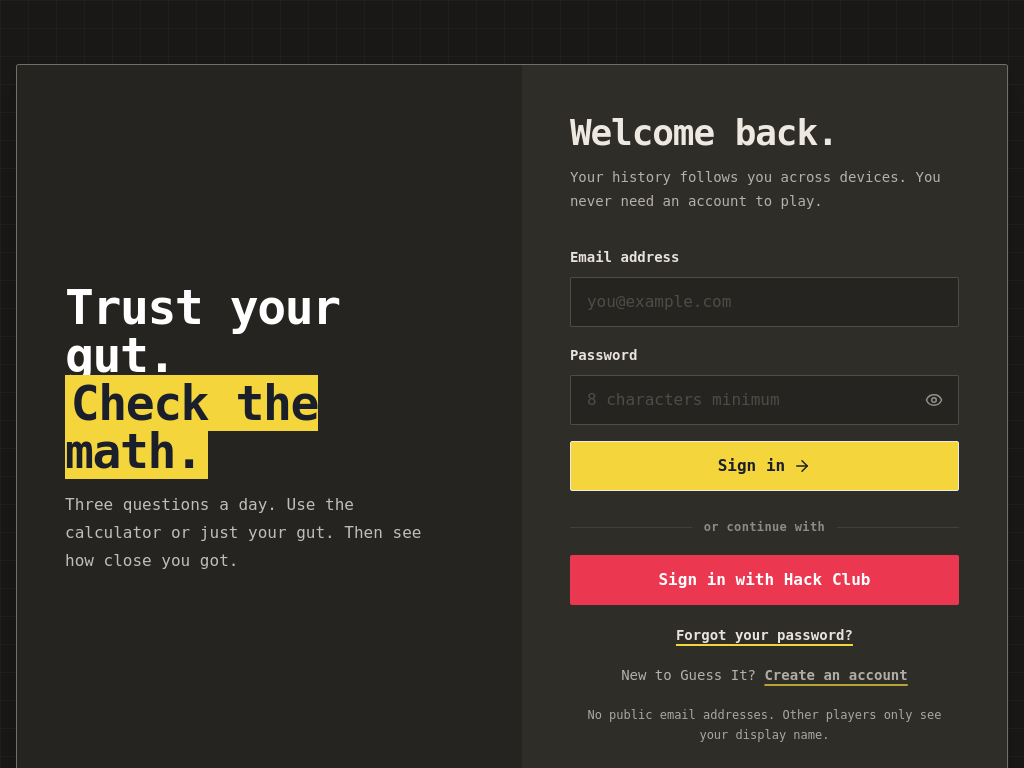
Scenario: Auth pending verification › replaces the login form with pending verification
Type "player@example.com" into the field labelled "Email address" at [764, 302], box x1=570 y1=277 x2=959 y2=327
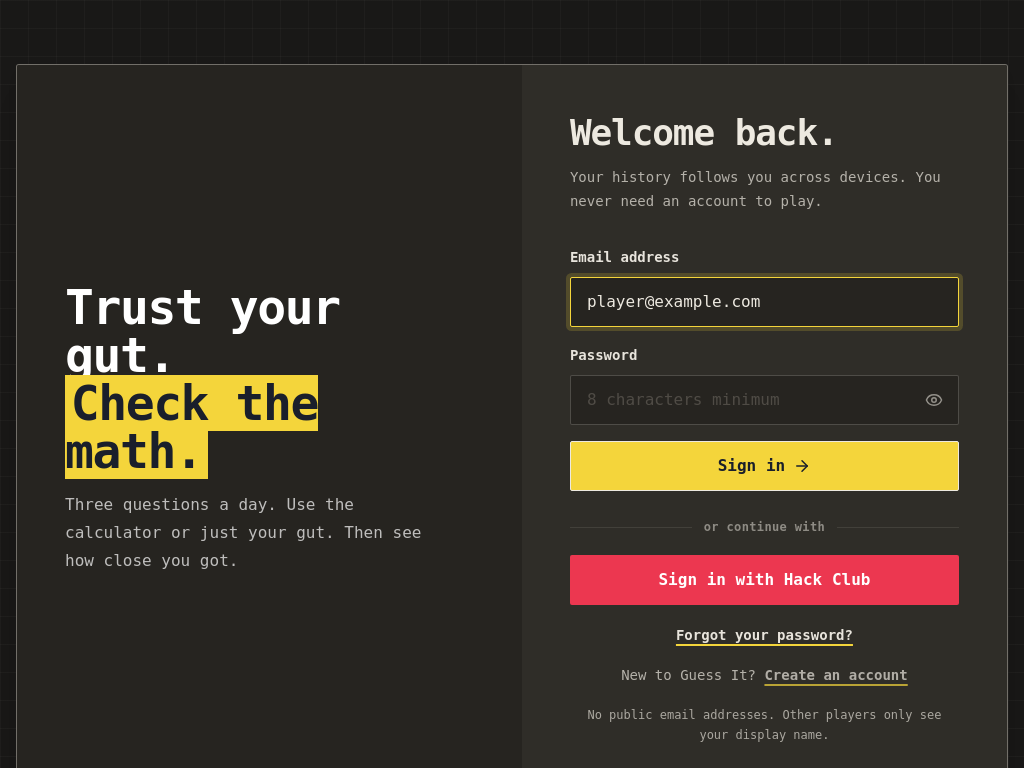
Type "password123" into the password field labelled "Password" at [764, 400], box x1=570 y1=375 x2=959 y2=425
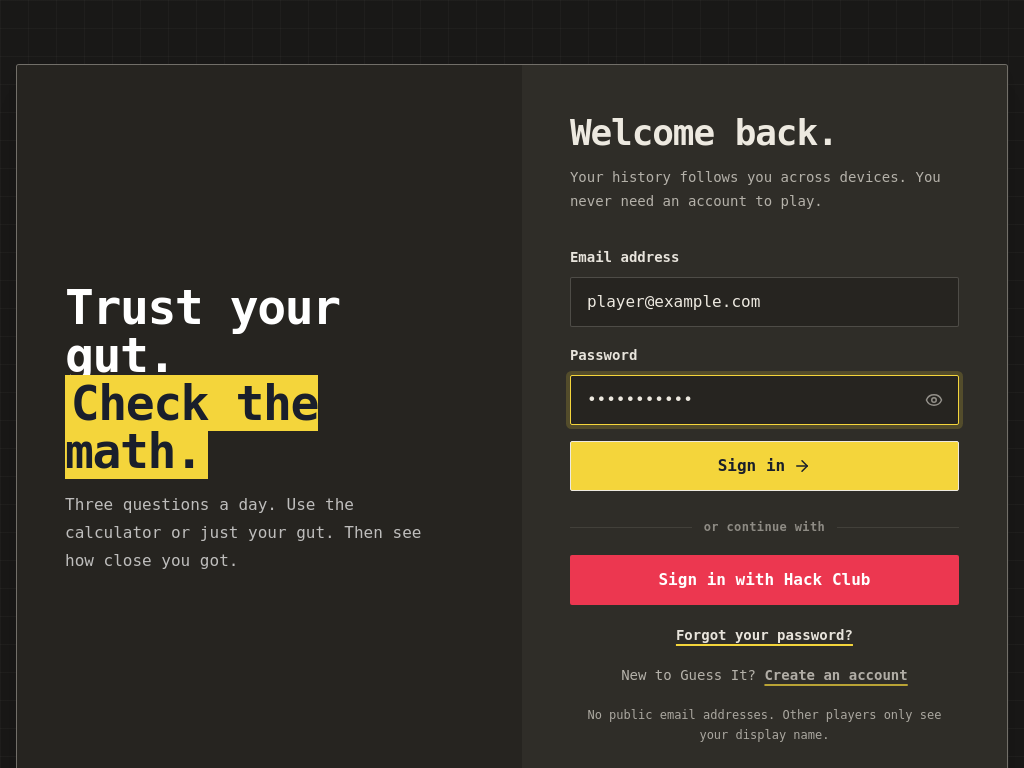
Click the button "Sign in" at [764, 466], box x1=570 y1=441 x2=959 y2=491
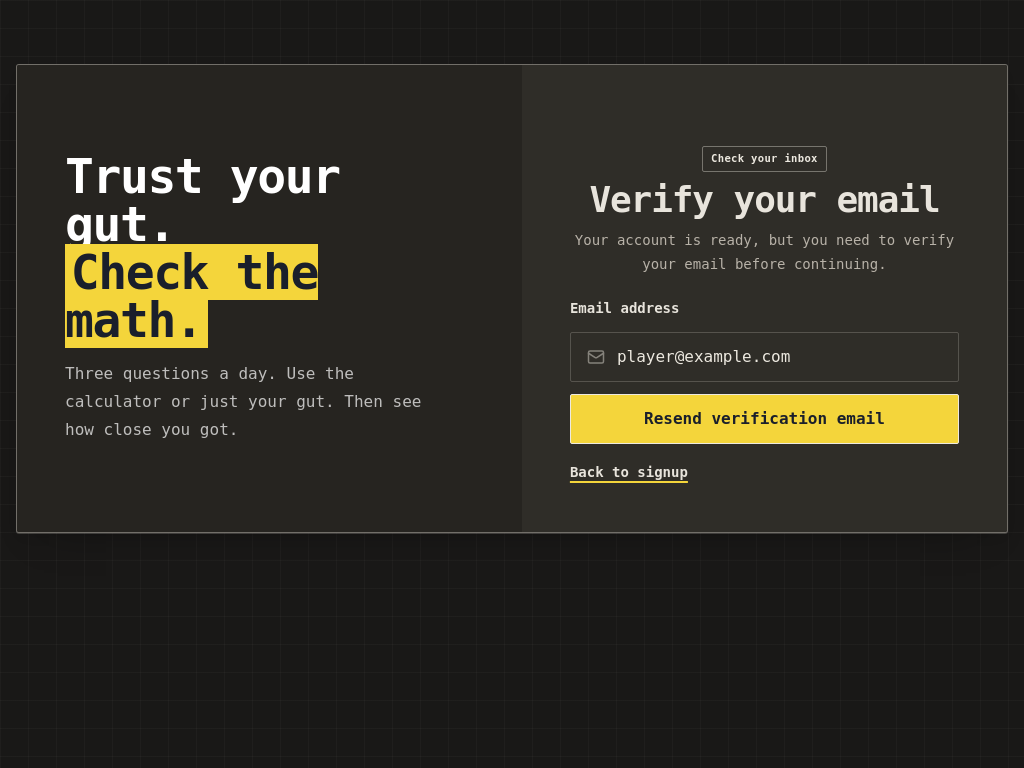
Check: the heading "Verify your email" is shown, box x1=570 y1=180 x2=959 y2=220
Check: the button "Sign in" is gone
